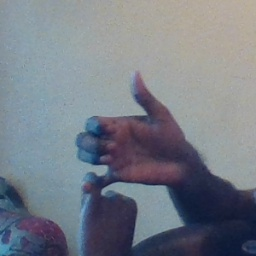S: (66, 65, 189, 242)
